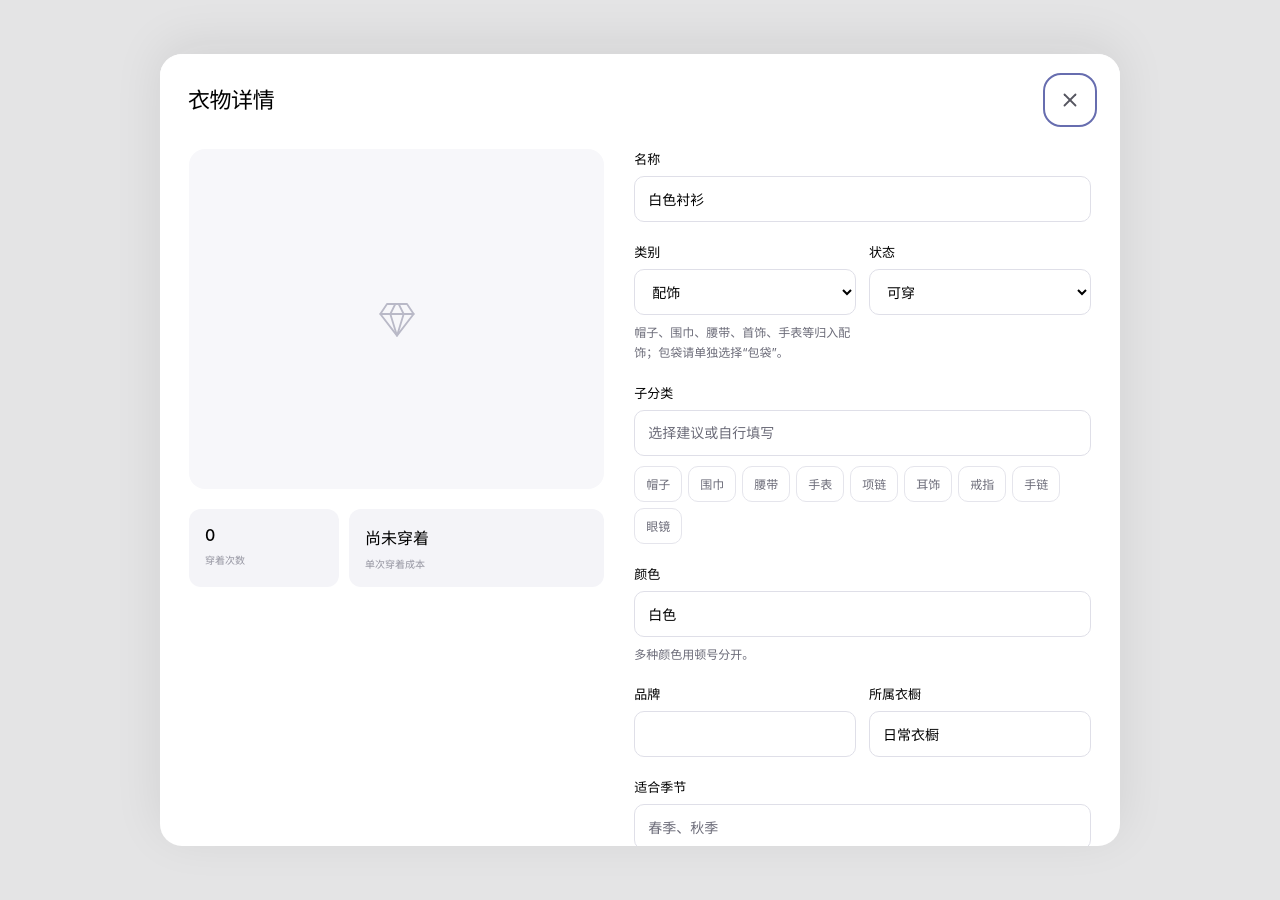
Test: offers accessory subcategories without mixing them into bags
This screenshot has width=1280, height=900.
Check: the button "项链" is shown, box [850,466,898,502]
Click the button "手表" at (820, 484), box [796,466,844,502]
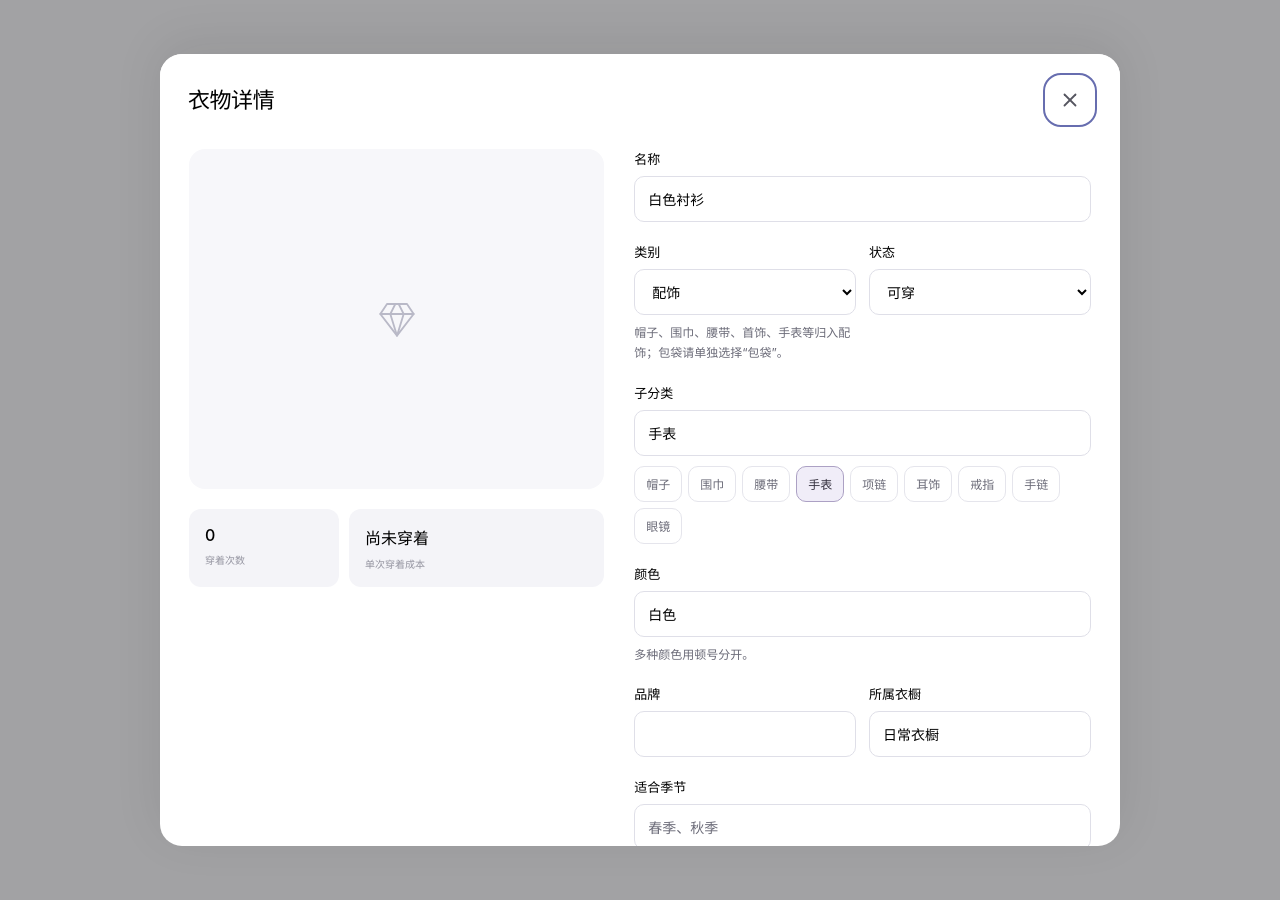
Check: the field labelled "子分类" holds "手表", box [634,410,1091,456]
Select "包袋" in the dropdown labelled "类别" at (745, 292), box [634,269,856,315]
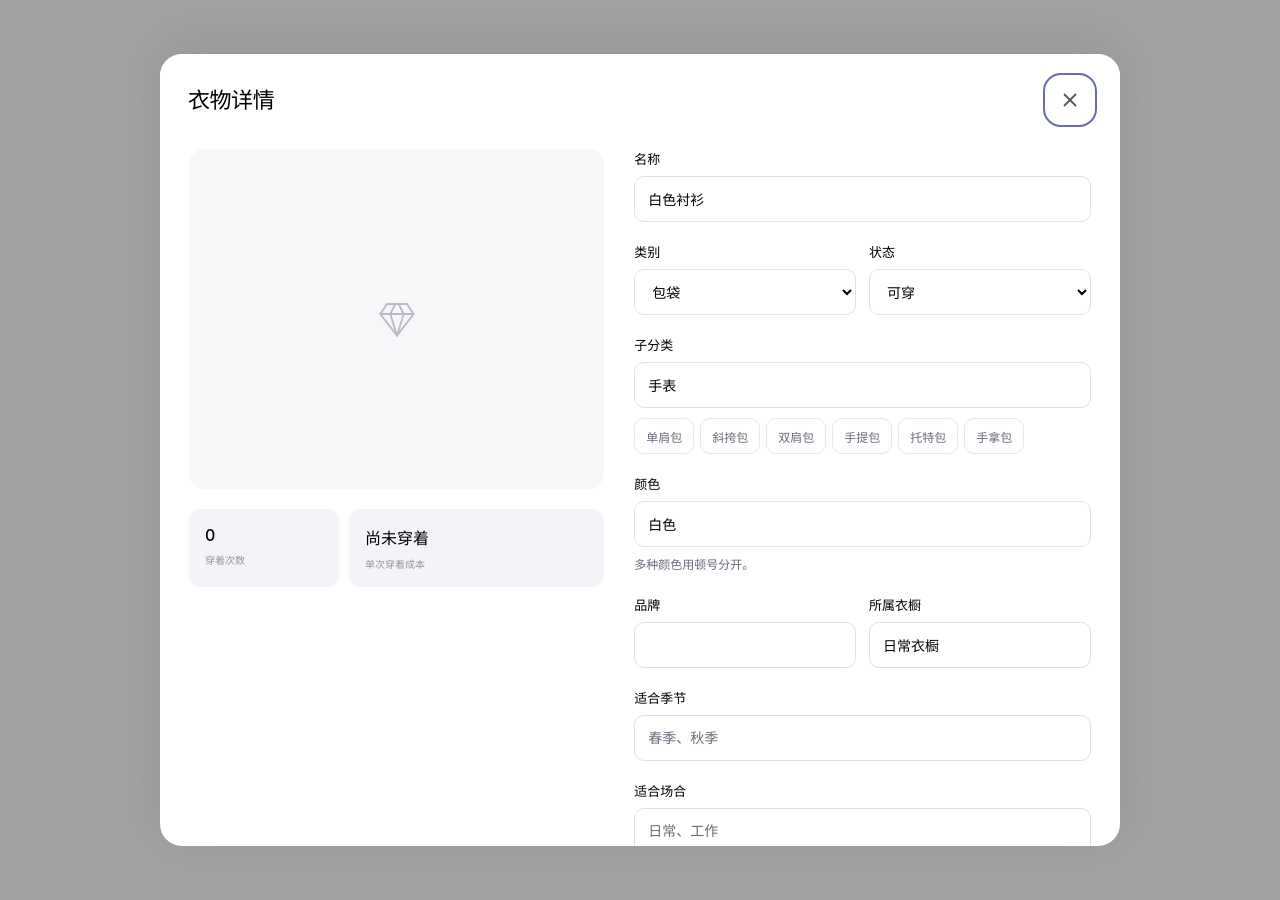
Check: the button "斜挎包" is shown, box [700,418,760,454]
Check: the button "项链" is gone
